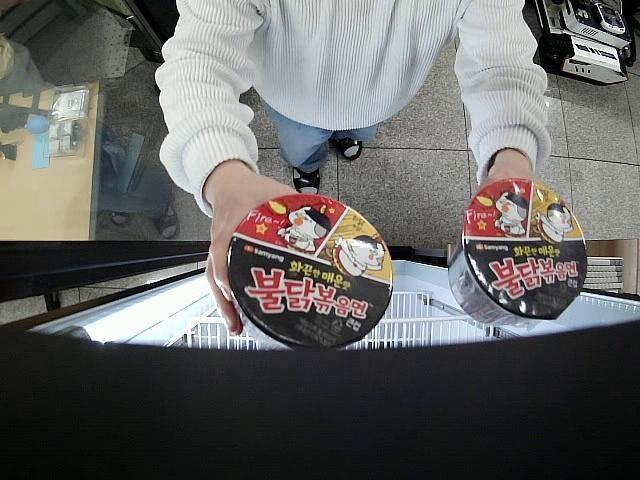07_buldak_L: (231, 193, 394, 350), (448, 178, 588, 328)
